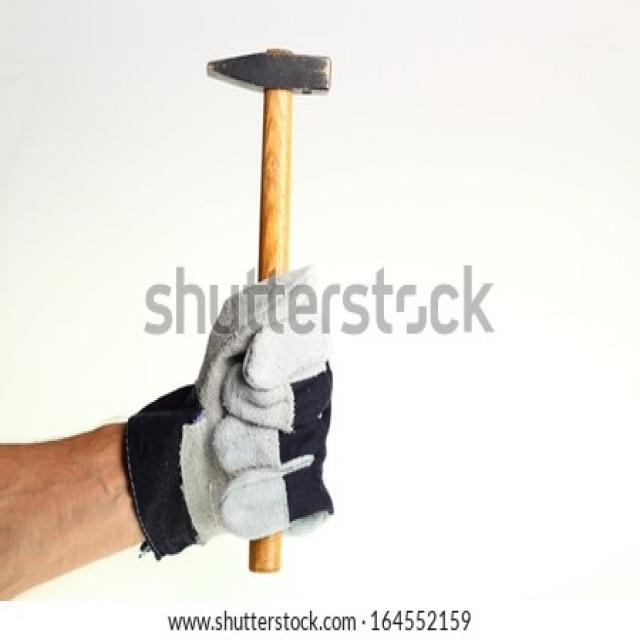hammer: (201, 38, 335, 578)
